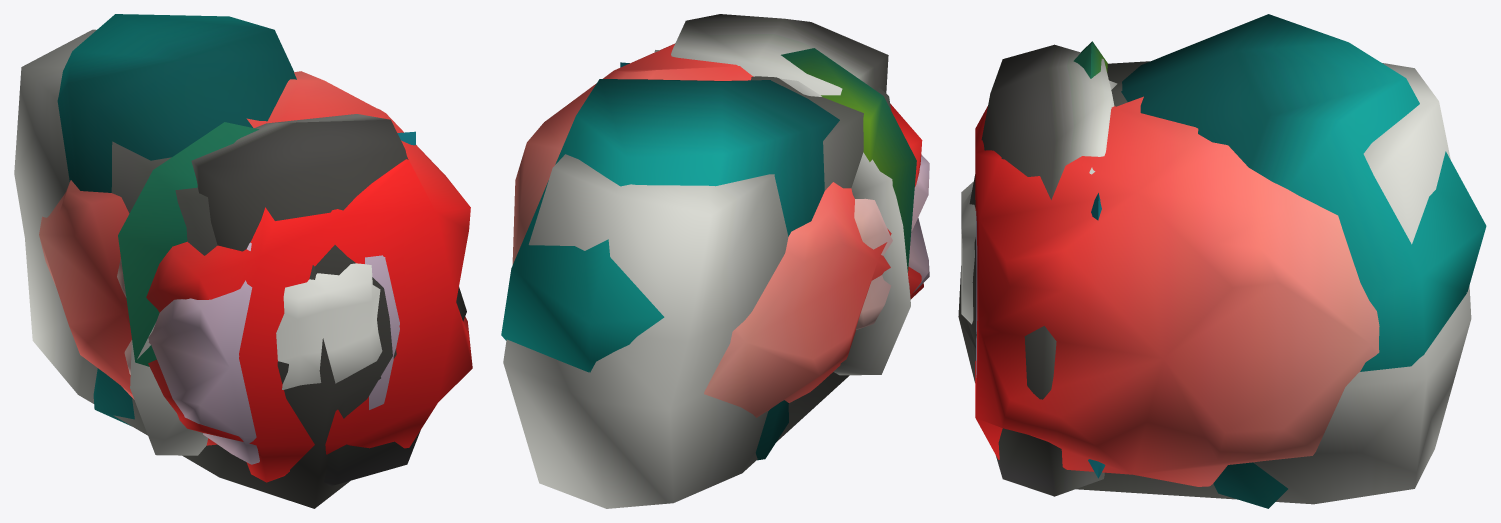
3 renders of one model, left to right at view 1: azimuth 30°, elevation 25°; view 2: azimuth 150°, elevation 25°; view 3: azimuth 270°, elevation 25°, orthographic. The views are drawn at different scales.
Visible parts, largest first — view 1: rock8, rock3, rock2, rock1, rock9, rock10, rock12; view 2: rock2, rock3, rock8, rock1, rock10, rock12, rock9; view 3: rock8, rock3, rock2, rock1, rock10, rock12.
Boxes of the visible parts, <box> form: rock8: <box>39,71,472,482</box>; rock3: <box>57,14,296,426</box>; rock2: <box>14,29,380,508</box>; rock1: <box>191,114,466,486</box>; rock9: <box>117,242,399,464</box>; rock10: <box>130,263,382,455</box>; rock12: <box>118,122,259,366</box>; rock2: <box>503,76,891,508</box>; rock3: <box>501,79,839,460</box>; rock8: <box>512,43,923,417</box>; rock1: <box>671,14,888,95</box>; rock10: <box>654,50,910,375</box>; rock12: <box>781,48,916,272</box>; rock9: <box>854,154,929,329</box>; rock8: <box>975,96,1379,486</box>; rock3: <box>1121,14,1486,508</box>; rock2: <box>958,61,1471,504</box>; rock1: <box>967,44,1114,496</box>; rock10: <box>961,76,1117,324</box>; rock12: <box>1073,41,1107,78</box>.
Size of the model in its own units: 331 by 374 by 429.
Materials: 1 (1 with a texture image).
